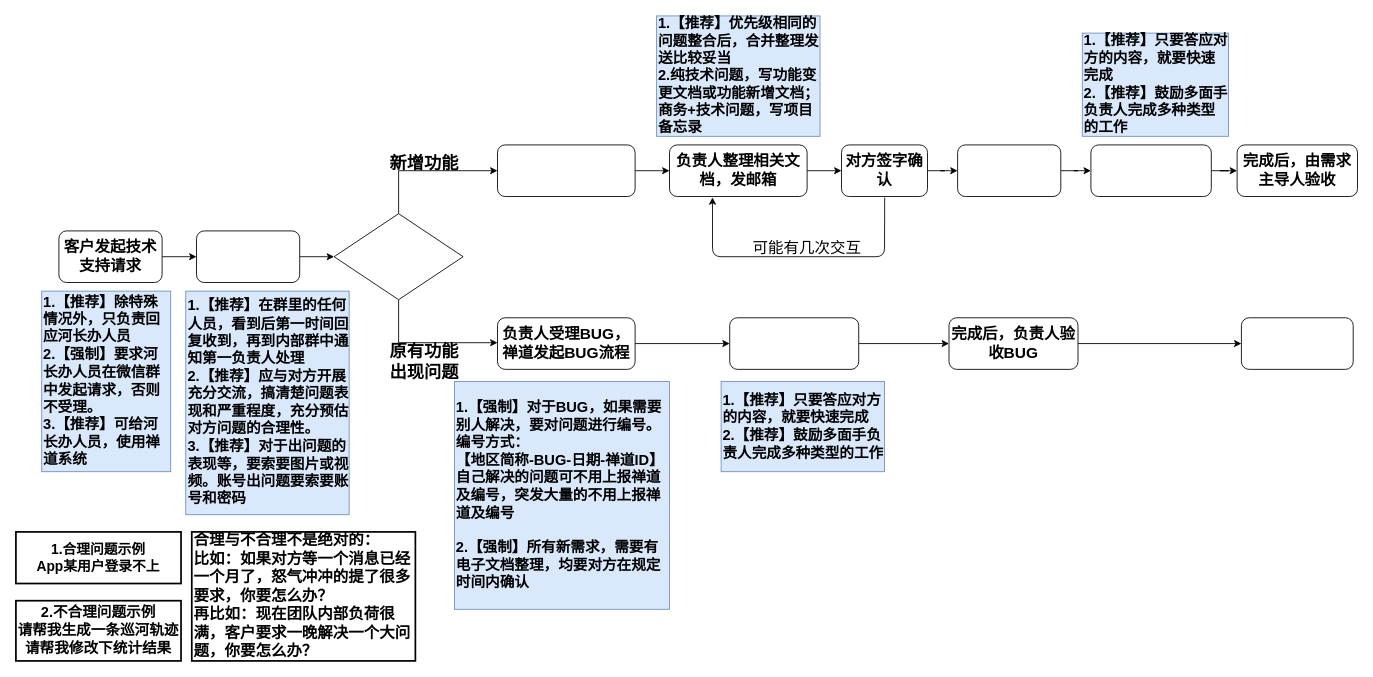
This 1373x677 diagram has some shape labels left out. The centre of each missing label's shape, as x and y in pixels:
"依影响程度 选择处理流程" belongs at (398,256).
"确立该需求的主导人，发起需求流程" belongs at (1009,170).
"负责人关注BUG进展，及时预警" belongs at (794,343).
"负责人关注需求进展，及时预警" belongs at (1150,170).
"负责人受理需求" belongs at (566,170).
"负责人回应技术支持请求" belongs at (248,256).
"验收通过，负责人通知客户" belongs at (1297,343).
